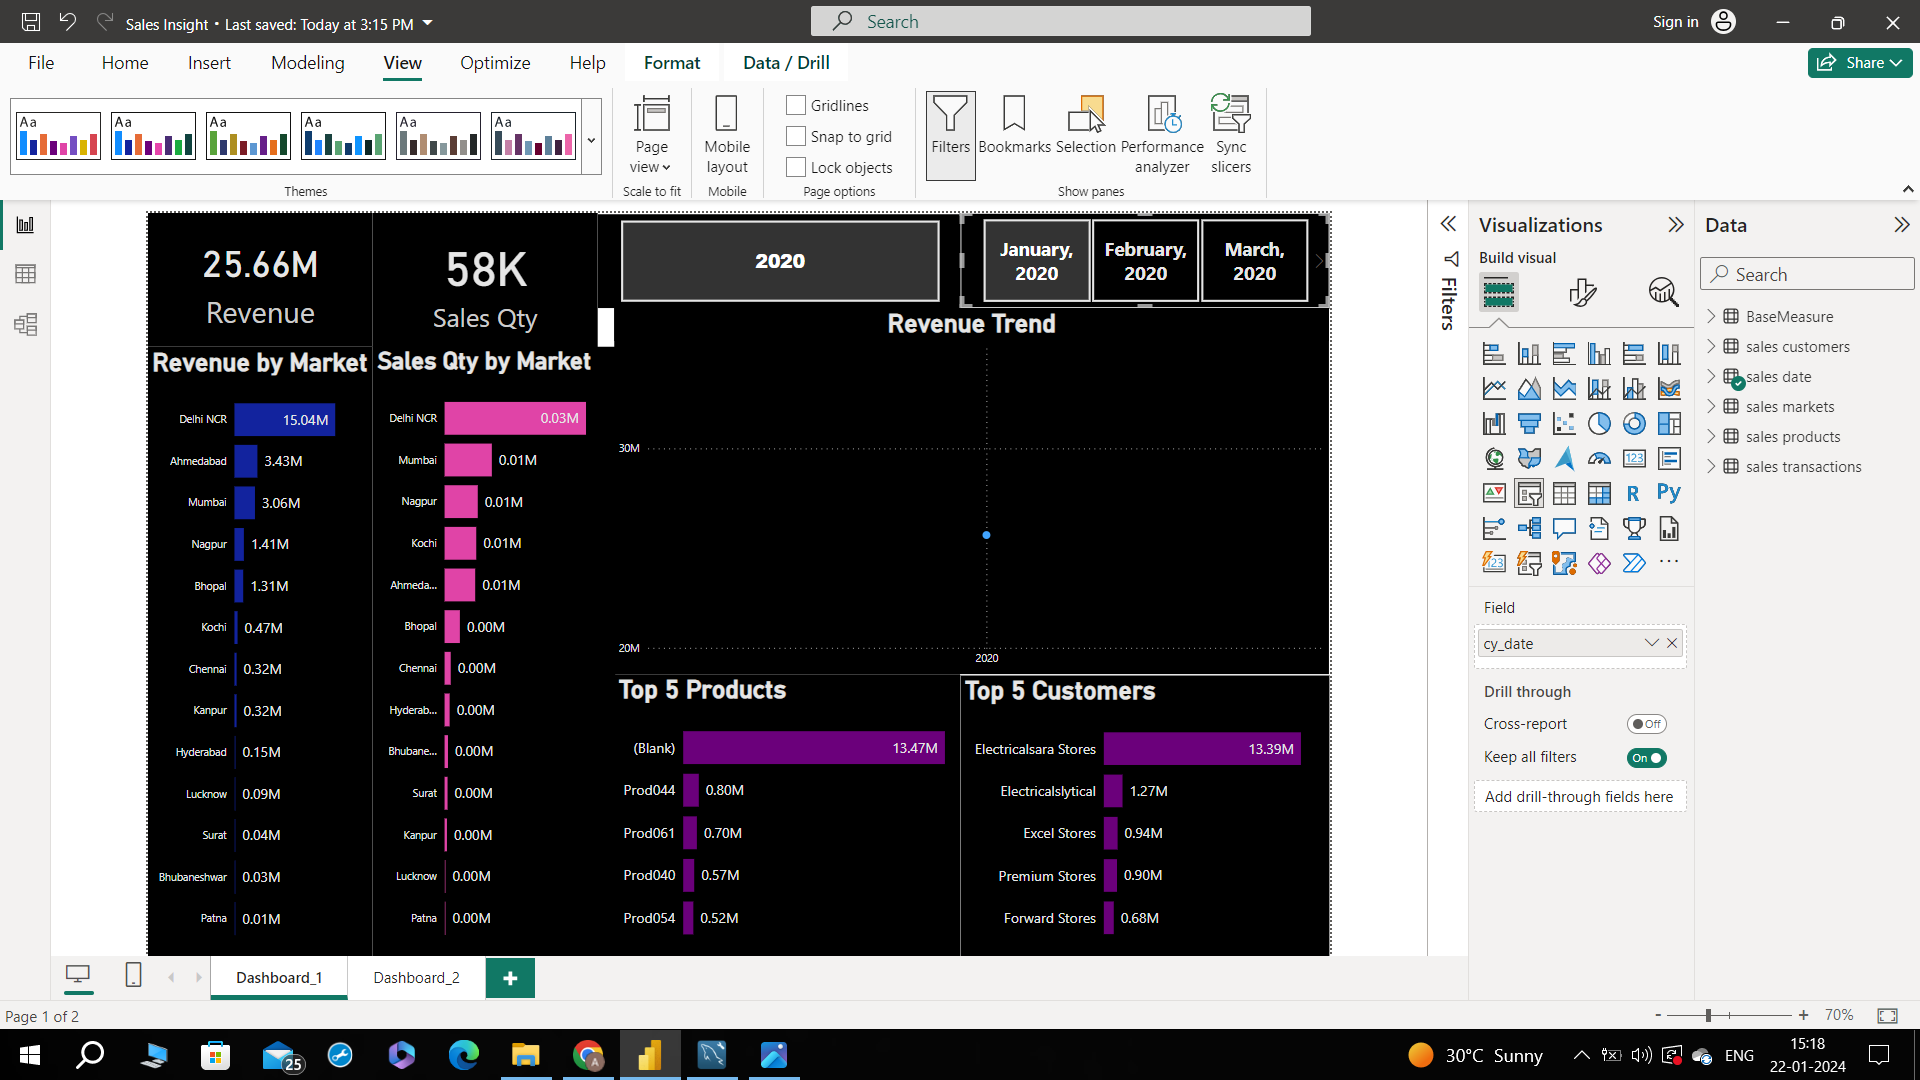

The page's visual inventory and layout, read from the dashboard file:
{"tool":"powerbi","page":{"name":"Dashboard_1","canvas":[1350,850],"ordinal":0},"visuals":[{"type":"card","fields":{"Values":["BaseMeasure.Revenue"]},"box":[0,0,257.1,152.9],"z":0},{"type":"card","fields":{"Values":["BaseMeasure.Sales Qty"]},"box":[256.7,0,256.7,153.3],"z":1000},{"type":"barChart","title":"Revenue by Market","fields":{"Y":["BaseMeasure.Revenue"],"Category":["sales markets.markets_name"]},"box":[0,152.9,257.1,697.1],"z":2000},{"type":"barChart","title":"Sales Qty by Market","fields":{"Y":["BaseMeasure.Sales Qty"],"Category":["sales markets.markets_name"]},"box":[256.7,153.3,276.7,696.7],"z":3000},{"type":"slicer","title":"Year","fields":{"Values":["sales date.year"]},"box":[514.3,1.4,414.3,107.1],"z":4000},{"type":"slicer","fields":{"Values":["sales date.cy_date"]},"box":[928.6,0,421.4,108.6],"z":5000},{"type":"barChart","title":"Top 5 Customers","fields":{"Y":["BaseMeasure.Revenue"],"Category":["sales customers.custmer_name"]},"box":[928.6,528.6,421.4,321.4],"z":6000},{"type":"barChart","title":"Top 5 Products","fields":{"Y":["BaseMeasure.Revenue"],"Category":["sales products.product_code"]},"box":[533.3,526.7,395,323.3],"z":7000},{"type":"lineChart","title":"Revenue Trend","fields":{"Y":["BaseMeasure.Revenue"],"Category":["sales date.cy_date"]},"box":[532.9,108.6,817.1,418.6],"z":8000}]}

Visuals, with their boxes on the page's 1350x850 design canvas (x1, y1, x2, y2). These are canvas units, not pixel positions in the 1920x1080 screenshot, which may show the page scaled, cropped or inside an application window:
card - BaseMeasure.Revenue: x1=0, y1=0, x2=257, y2=153
card - BaseMeasure.Sales Qty: x1=257, y1=0, x2=513, y2=153
"Revenue by Market" barChart: x1=0, y1=153, x2=257, y2=850
"Sales Qty by Market" barChart: x1=257, y1=153, x2=533, y2=850
"Year" slicer: x1=514, y1=1, x2=929, y2=108
slicer - sales date.cy_date: x1=929, y1=0, x2=1350, y2=109
"Top 5 Customers" barChart: x1=929, y1=529, x2=1350, y2=850
"Top 5 Products" barChart: x1=533, y1=527, x2=928, y2=850
"Revenue Trend" lineChart: x1=533, y1=109, x2=1350, y2=527
